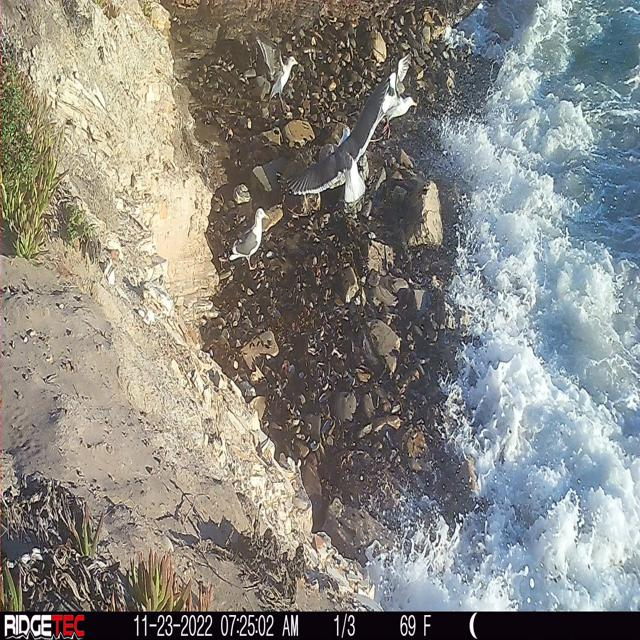bird: (226, 207, 268, 266)
